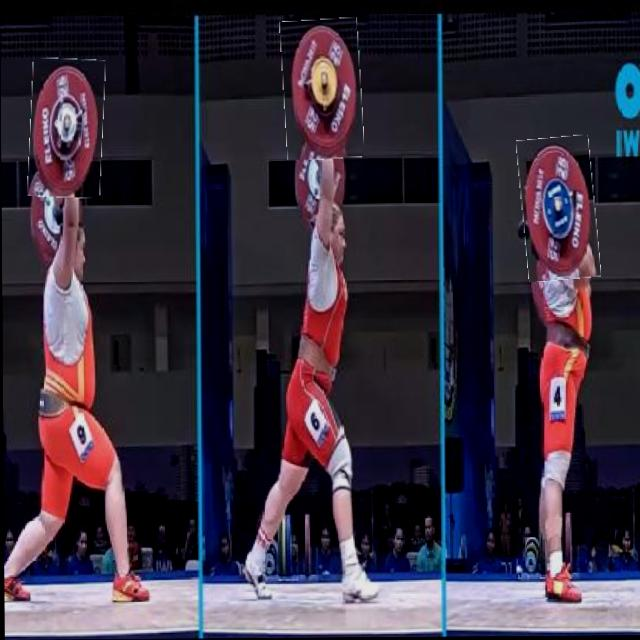barbell: (282, 20, 364, 161), (520, 138, 599, 283), (29, 60, 106, 199)
